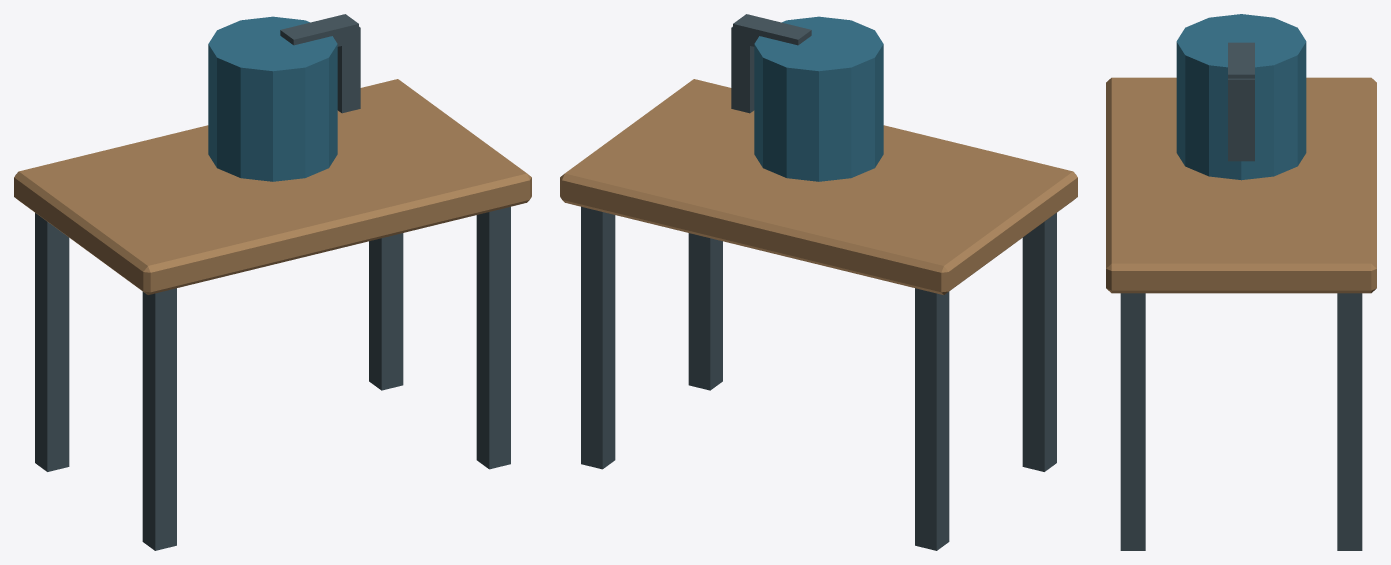
Rendered from kettle_counter.glb.
3 renders of one model, left to right at view 1: azimuth 30°, elevation 25°; view 2: azimuth 150°, elevation 25°; view 3: azimuth 270°, elevation 25°, orthographic.
Visible parts, largest first — view 1: kettle_counter; view 2: kettle_counter; view 3: kettle_counter.
Part boxes in pixels (x1,y1,x2,y2): kettle_counter: (14,14,531,550); kettle_counter: (560,14,1077,550); kettle_counter: (1106,14,1376,550).
Bounding box in the file's own units: 1.25 × 1.31 × 0.75.
